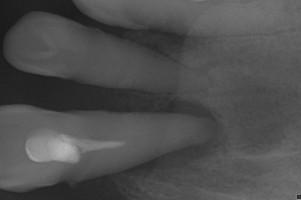Dental Caries: (125, 96, 227, 171)
